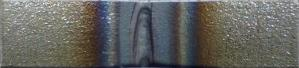soldas: (91, 1, 218, 66)
